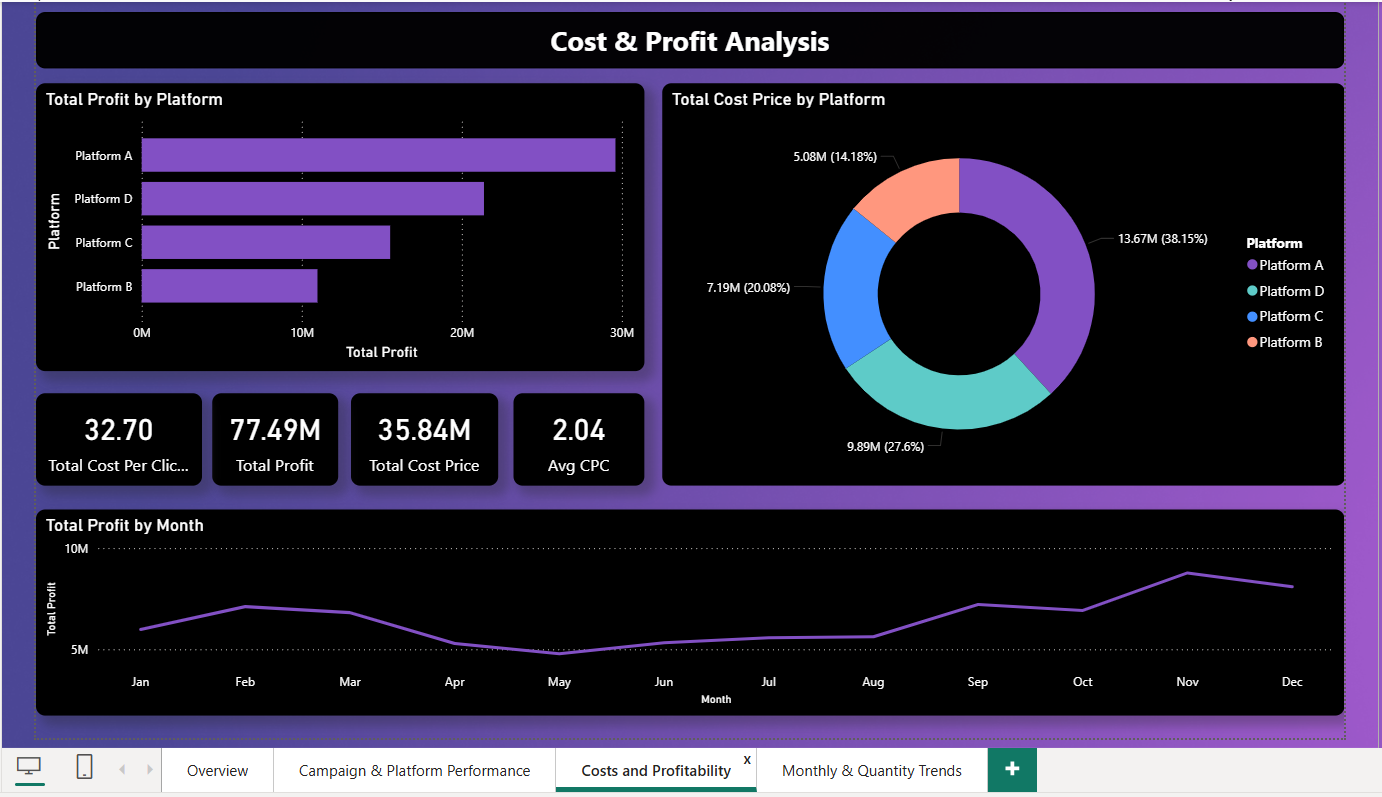

The dashboard page shown, as its layout file describes it:
{"tool":"powerbi","page":{"name":"Costs and Profitability","canvas":[1280,720],"ordinal":2},"visuals":[{"type":"clusteredBarChart","fields":{"Y":["Data.Total Profit"],"Category":["Data.Platform"]},"box":[0,79.5,595.5,281.3],"z":0},{"type":"textbox","box":[0,9.8,1280.3,55],"z":1000},{"type":"donutChart","fields":{"Category":["Data.Platform"],"Y":["Data.Total Cost"]},"box":[612.6,79.5,667.7,393.8],"z":2000},{"type":"card","fields":{"Values":["Data.Total Cost Price"]},"box":[308.2,382.7,144.3,90.5],"z":3000},{"type":"card","fields":{"Values":["Data.Total Profit"]},"box":[172.4,382.7,123.5,90.5],"z":4000},{"type":"lineChart","fields":{"Category":["Data.Month"],"Y":["Data.Total Profit"]},"box":[0,496.5,1280.3,201.8],"z":5000},{"type":"card","fields":{"Values":["Sum(Click Cost.Cost Per Click (CPC))"]},"box":[0,382.7,162.6,90.5],"z":6000},{"type":"card","fields":{"Values":["Data.Avg CPC"]},"box":[467.1,382.7,128.4,90.5],"z":7000}]}

Visuals, with their boxes in screenshot pixels (x1, y1, x2, y2):
clusteredBarChart - Data.Total Profit x Data.Platform: box=[29, 78, 640, 367]
textbox: box=[29, 6, 1344, 63]
donutChart - Data.Platform x Data.Total Cost: box=[658, 78, 1344, 482]
card - Data.Total Cost Price: box=[345, 389, 494, 482]
card - Data.Total Profit: box=[206, 389, 333, 482]
lineChart - Data.Month x Data.Total Profit: box=[29, 506, 1344, 714]
card - Sum(Click Cost.Cost Per Click (CPC)): box=[29, 389, 196, 482]
card - Data.Avg CPC: box=[509, 389, 640, 482]
